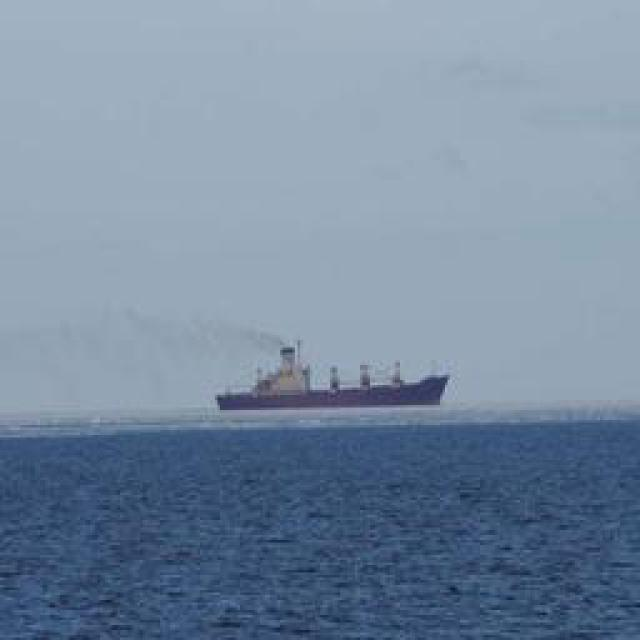Ship: (212, 344, 452, 419)
